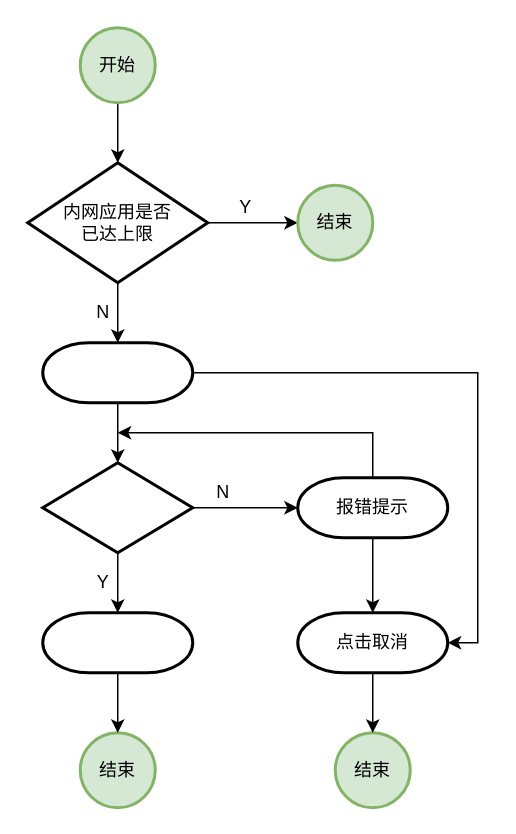
This 516x834 diagram has some shape labels left out. Each missing label, with the box of its shape:
保存成功 关闭弹窗: (40, 610, 194, 674)
点击新增 弹出弹框: (40, 340, 194, 404)
表单填写 是否正确: (40, 460, 194, 554)
